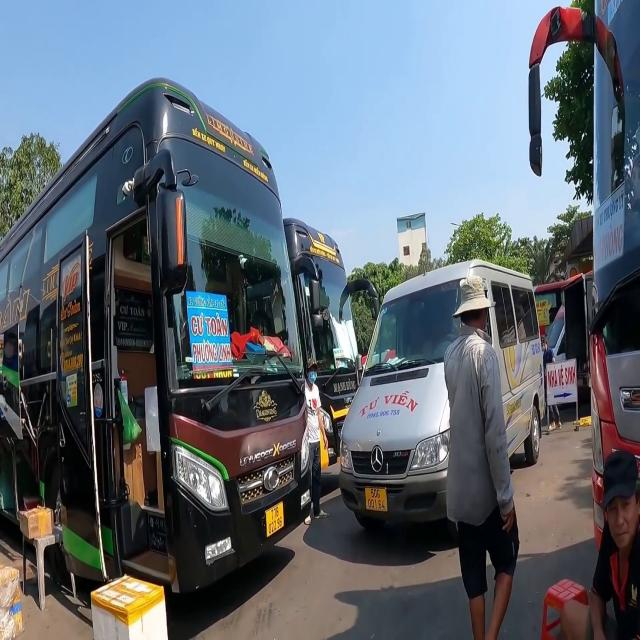bien_vang: (264, 504, 285, 537), (364, 486, 388, 514)
